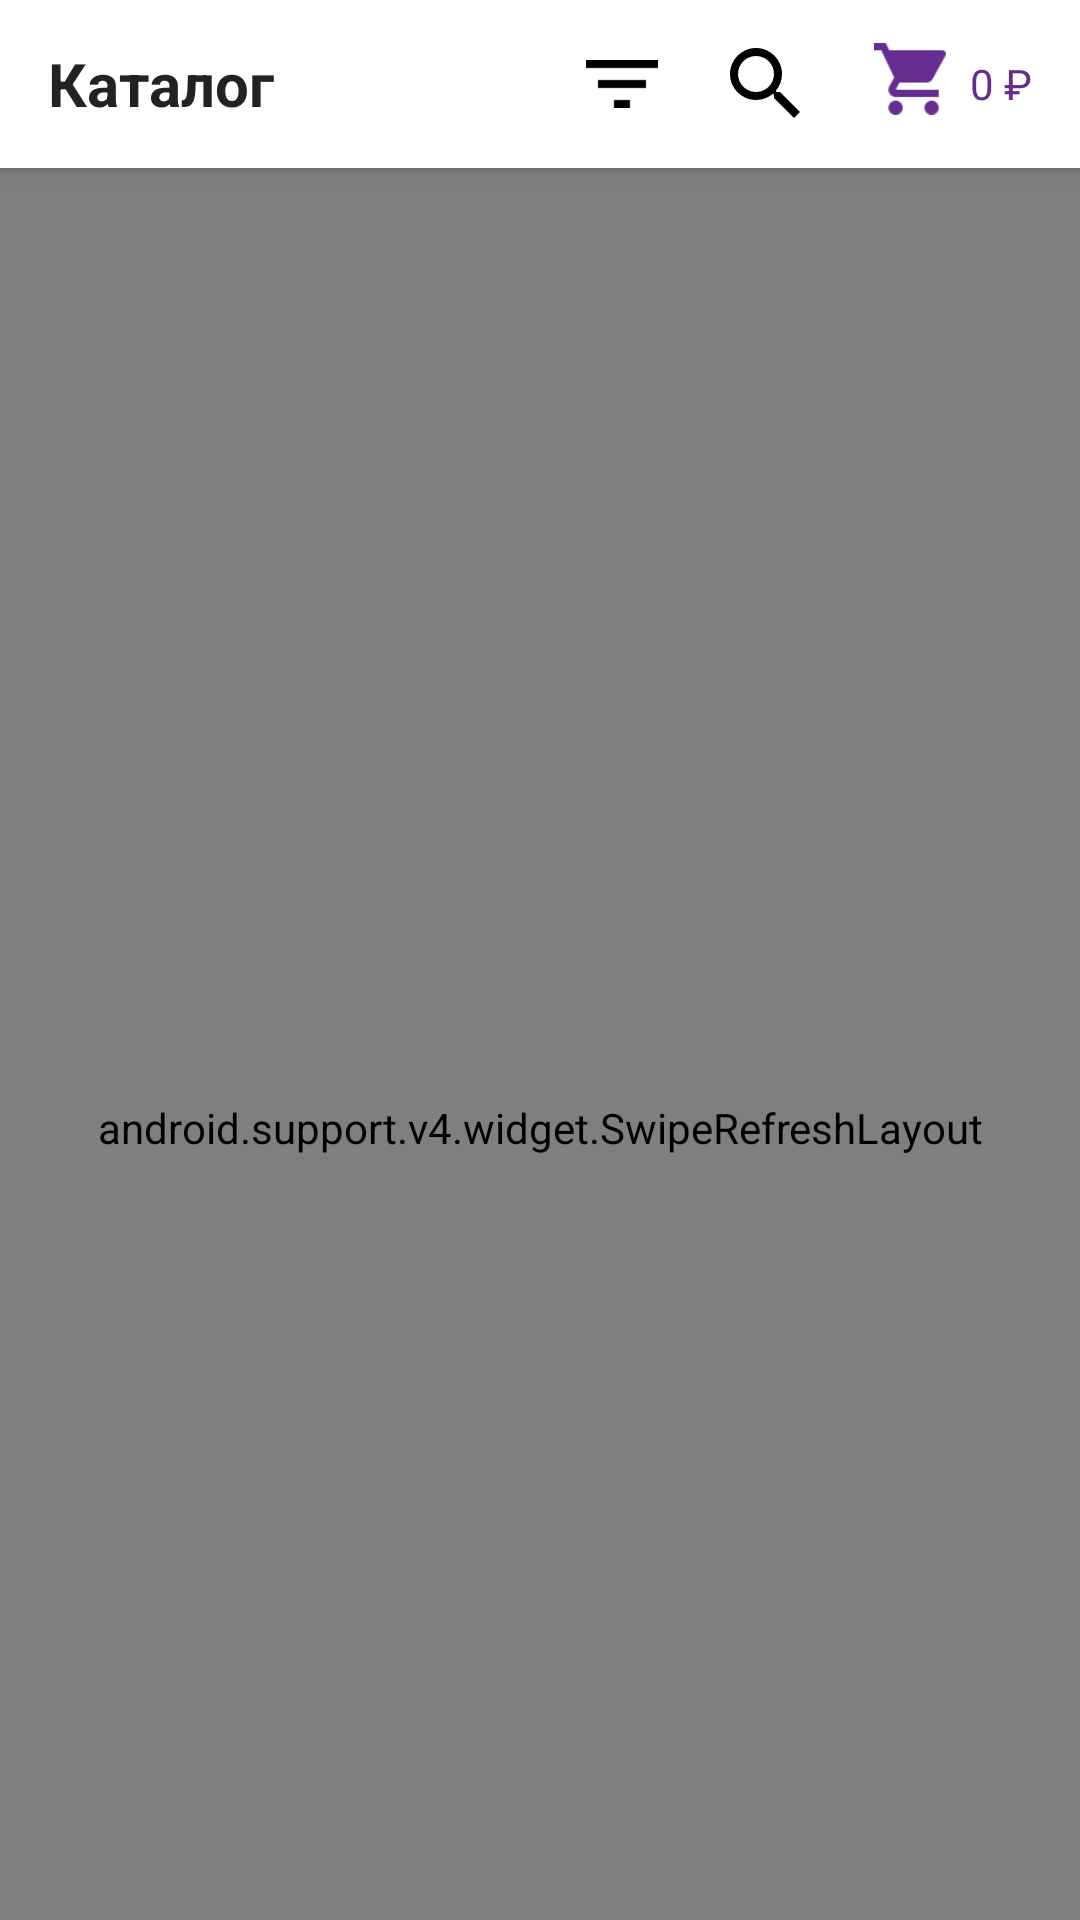

Screen size 1080x1920. Icon name, then its center in pixels as (x,y):
cart: (910,79)
filter: (622,84)
search: (765,83)
